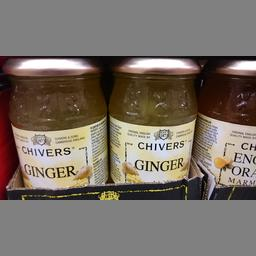jam: (2, 56, 108, 187), (108, 57, 202, 184), (193, 56, 255, 184)
